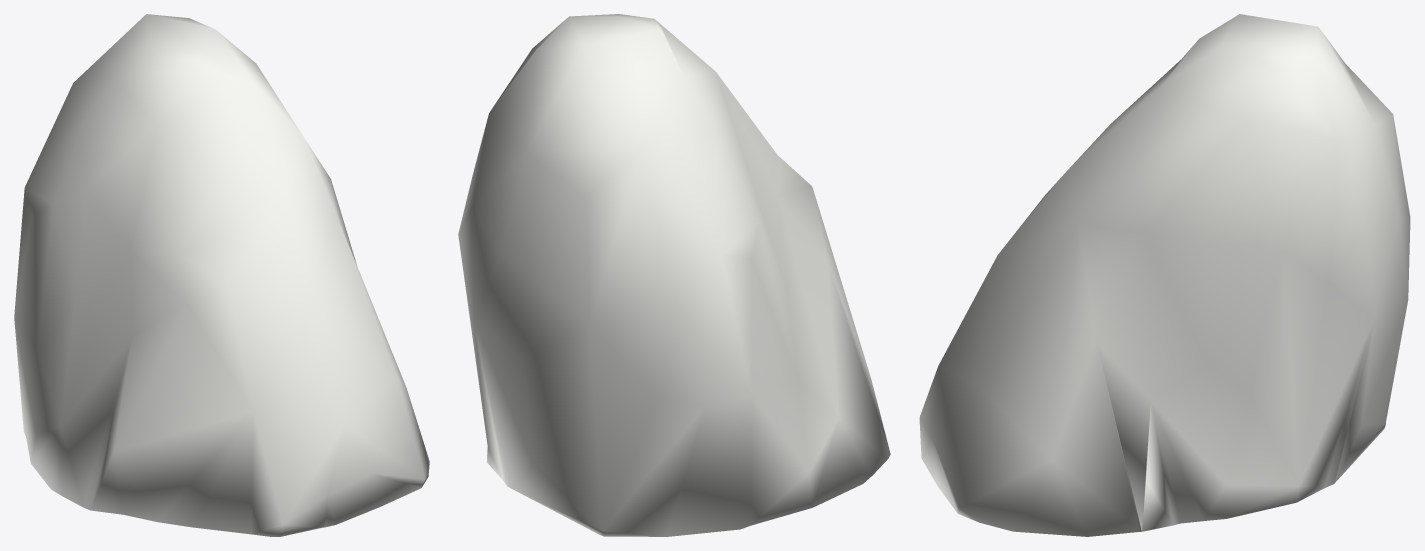
File: monte_neve_natal_3_pacote.glb
3 renders of one model, left to right at view 1: azimuth 30°, elevation 25°; view 2: azimuth 150°, elevation 25°; view 3: azimuth 270°, elevation 25°, orthographic. The views are drawn at different scales.
Visible parts, largest first — view 1: monte_neve_natal_3_pacote; view 2: monte_neve_natal_3_pacote; view 3: monte_neve_natal_3_pacote.
Boxes of the visible parts, left/top/right/bottom form: monte_neve_natal_3_pacote: left=14, top=14, right=429, bottom=536; monte_neve_natal_3_pacote: left=458, top=14, right=890, bottom=536; monte_neve_natal_3_pacote: left=919, top=14, right=1410, bottom=536.
Bounding box in the file's own units: 0.5795 × 0.6582 × 0.6879.
Materials: 1 (1 with a texture image).
